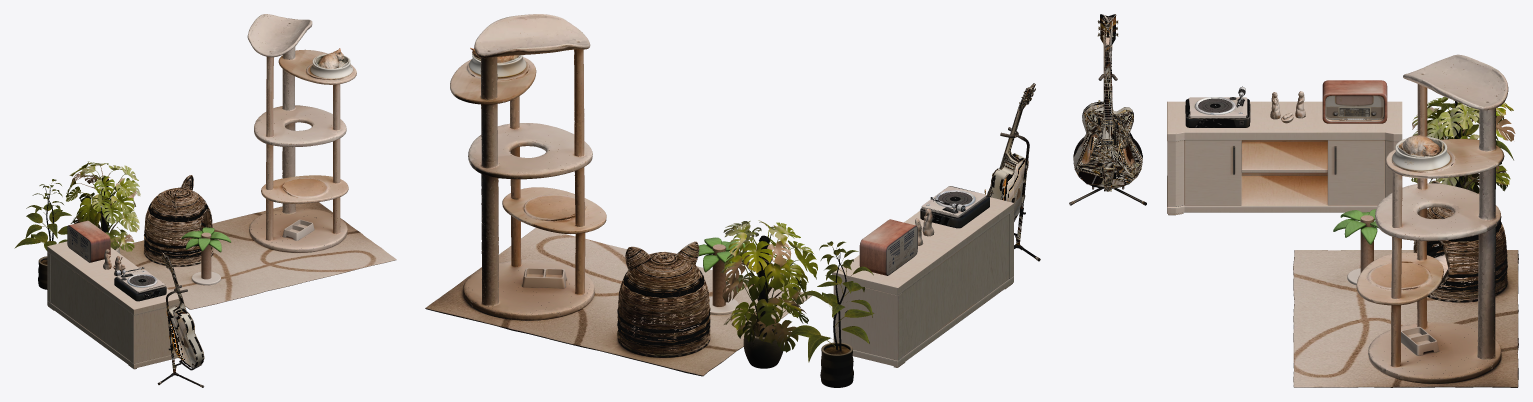
The model's file is LightOffice5th.glb.
3 views of the same model, side by side, from view 1: azimuth 30°, elevation 25°; view 2: azimuth 150°, elevation 25°; view 3: azimuth 270°, elevation 25° (orthographic). The views are drawn at different scales.
Parts seen in each view (by area): view 1: Tapis 22_Baked, Leaves_Baked, ModularPot_Baked; view 2: Tapis 22_Baked, Leaves_Baked, ModularPot_Baked, Vase_Baked; view 3: Tapis 22_Baked, Leaves_Baked, ModularPot_Baked.
Boxes of the visible parts, box(x1,y1,x2,y2) form: Tapis 22_Baked: box(47, 14, 396, 387); Leaves_Baked: box(66, 161, 140, 251); ModularPot_Baked: box(14, 179, 71, 289); Tapis 22_Baked: box(425, 14, 1040, 376); Leaves_Baked: box(720, 220, 817, 352); ModularPot_Baked: box(787, 241, 874, 387); Vase_Baked: box(743, 235, 784, 368); Tapis 22_Baked: box(1069, 14, 1518, 387); Leaves_Baked: box(1411, 96, 1515, 193); ModularPot_Baked: box(1427, 100, 1513, 192).
Size of the model in its own units: 2.67 by 1.64 by 2.4.
18 materials, 18 textured.
